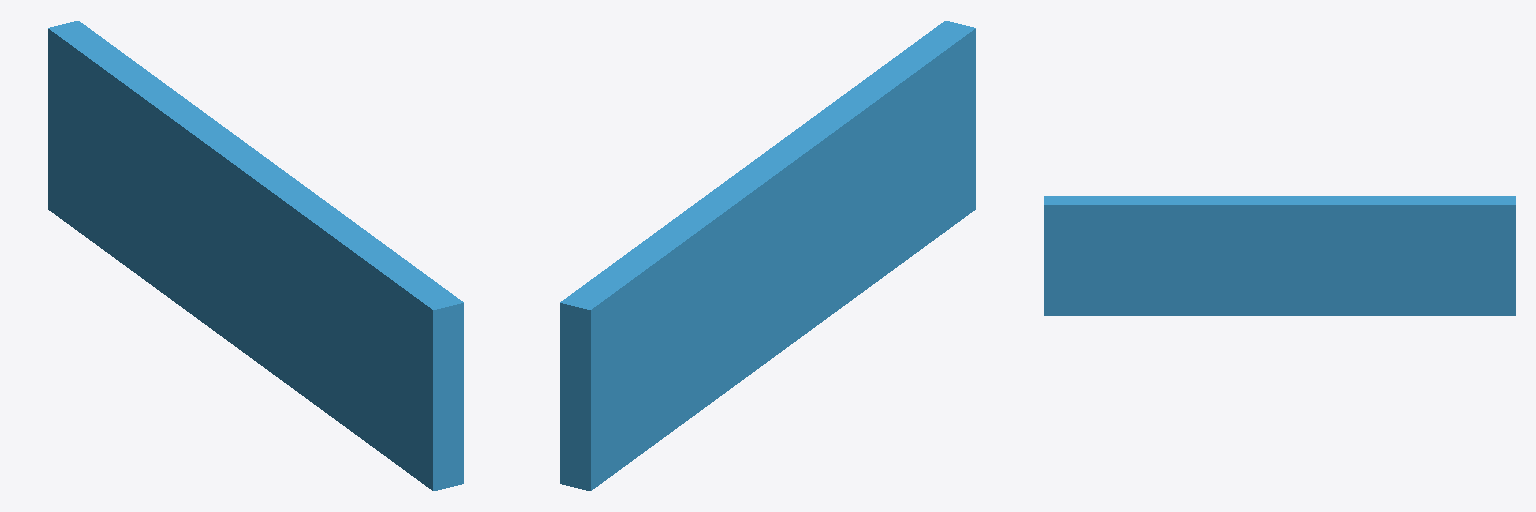
URDF robot description (box_41):
<?xml version="1.0" encoding="utf-8"?>    
    
    <robot name="box_41">
        <link name="box_41">    
            <fem>
                <origin rpy="0.0 0.0 0.0" xyz="0 0 0" />
                <density value="100" />
                <youngs value="4469"/>
                <poissons value="0.3"/>
                <damping value="0.0" /> 
                <attachDistance value="0.01"/>
                <tetmesh filename="../../../../Custom_mesh/physical_dvrk/multi_box_5kPa/box_41.tet"/>
                <scale value="1.0"/>
            </fem>
        </link>
        
        <link name="fix_frame">
            <visual>
                <origin xyz="-10.095 0.0 0.0"/>              
                <geometry>
                    <box size="0.005 0.108 0.028"/>
                </geometry>
            </visual>
            <collision>
                <origin xyz="-0.095 0.0 0.0"/>              
                <geometry>
                    <box size="0.005 0.108 0.028"/>
                </geometry>
            </collision>
            <inertial>
                <mass value="500000"/>
                <inertia ixx="0.05" ixy="0.0" ixz="0.0" iyy="0.05" iyz="0.0" izz="0.05"/>
            </inertial>
        </link>
        
        <joint name = "attach" type = "fixed">
            <origin xyz = "0.0 0.0 0.0" rpy = "0 0 0"/>
            <parent link = "box_41"/>
            <child link = "fix_frame"/>
        </joint>  
        
    </robot>
    

--- What the picture shows (computed from the rendered views, not written in the file) ---
The picture shows the robot from 3 angles, left to right: view 1: azimuth 30°, elevation 25°; view 2: azimuth 150°, elevation 25°; view 3: azimuth 270°, elevation 25°; orthographic projection.
Robot: box_41 — 2 links, 1 joints (1 fixed); root link box_41; default pose: all joints at 0.
Visible links, largest first — view 1: fix_frame; view 2: fix_frame; view 3: fix_frame.
Boxes of the visible links, x1,y1,x2,y2 form: fix_frame: (48, 21, 463, 490); fix_frame: (560, 21, 975, 490); fix_frame: (1044, 196, 1515, 315).
Size in the robot's own frame: 0.005 by 0.108 by 0.028 metres.
Geometry: primitives only (box / cylinder / sphere), no mesh files.